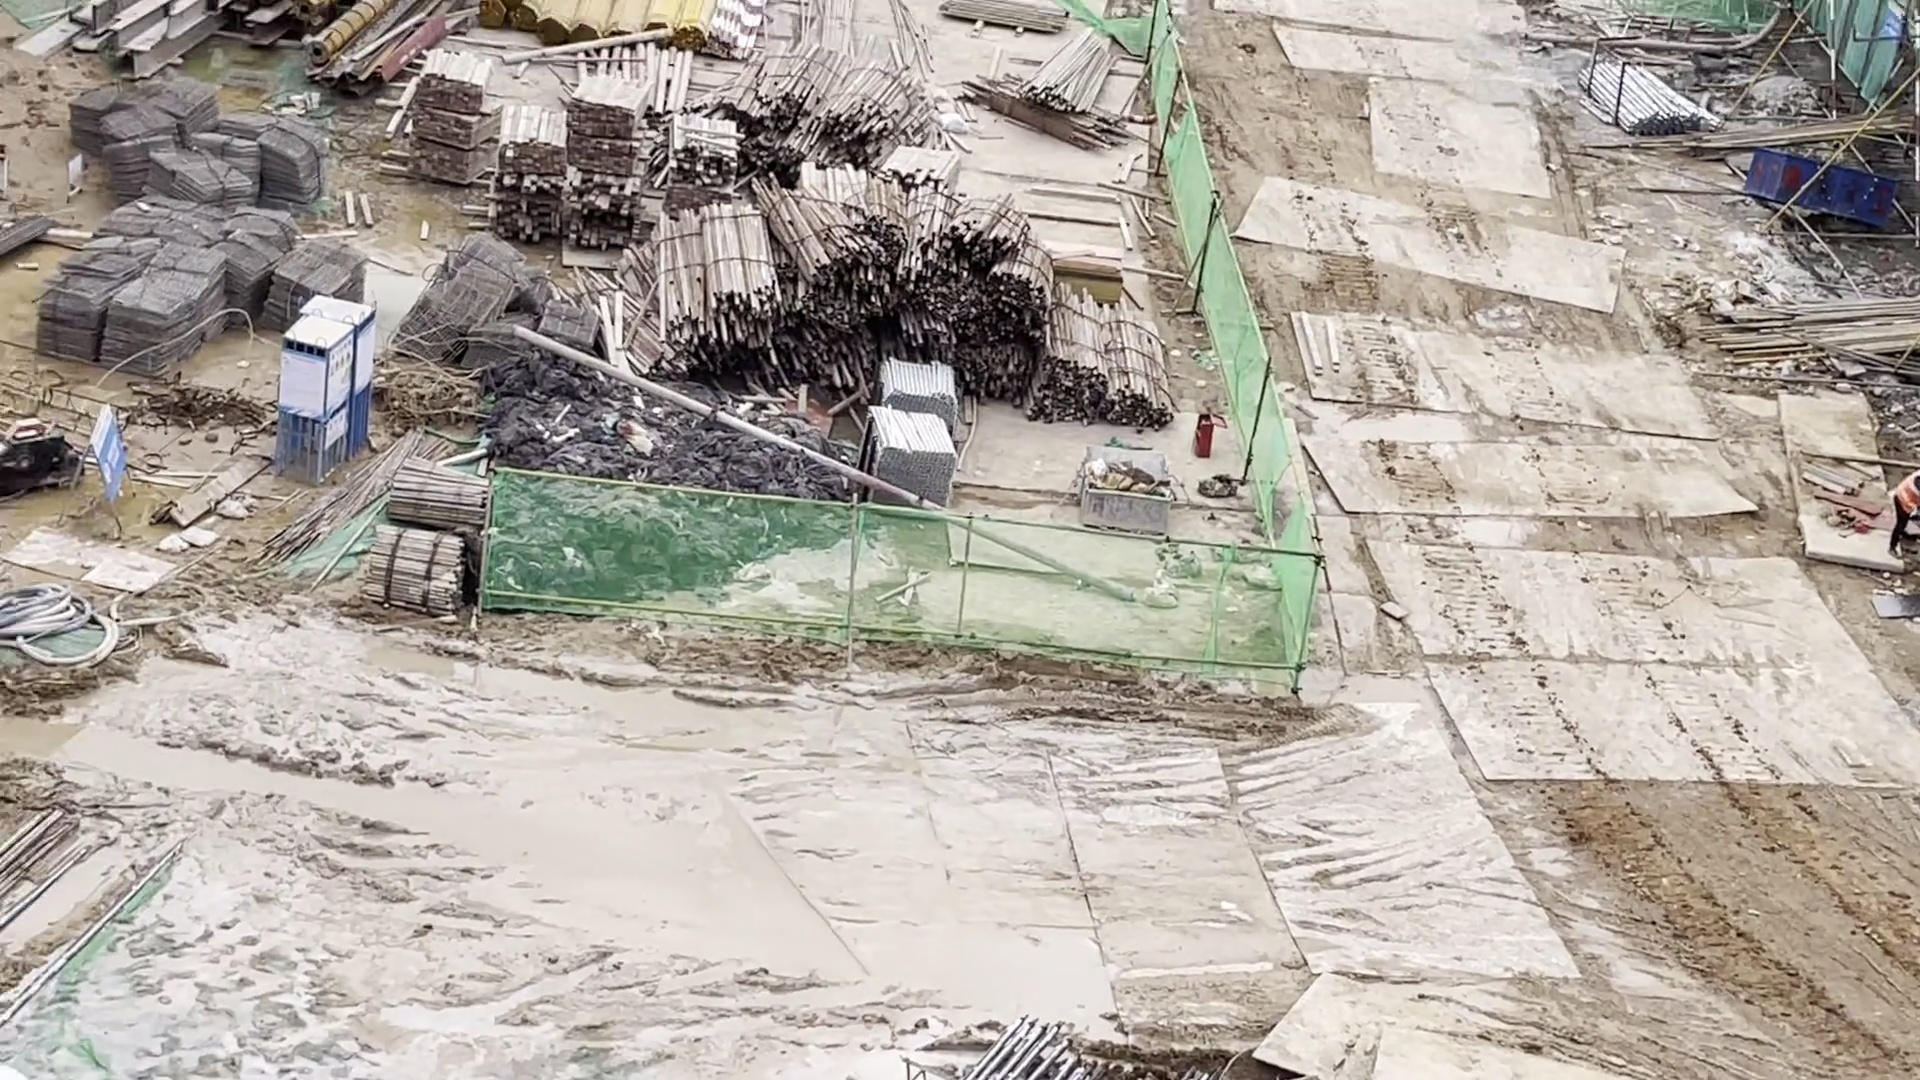hopper: (1743, 142, 1899, 229), (1077, 440, 1174, 530)
person: (1891, 450, 1920, 560)
scaffold: (1574, 55, 1717, 141)
vest: (1896, 471, 1920, 515)
wood: (413, 46, 650, 256), (661, 111, 748, 213)
